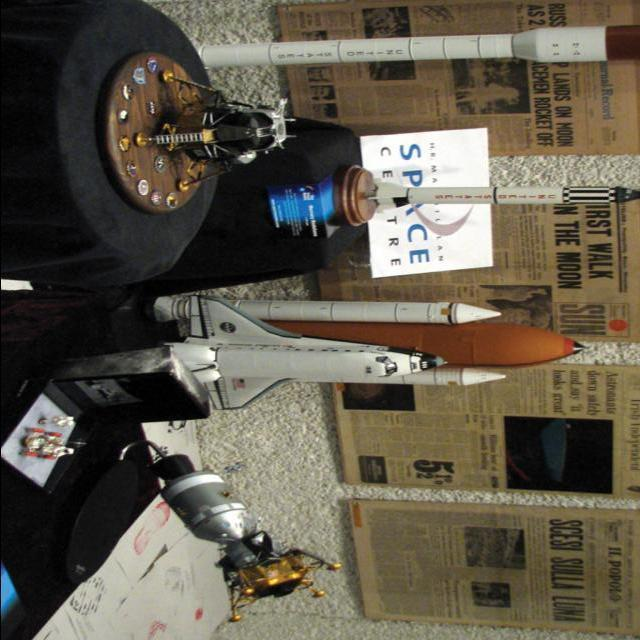Missile: (149, 290, 523, 328), (203, 30, 640, 62), (367, 180, 640, 209)
